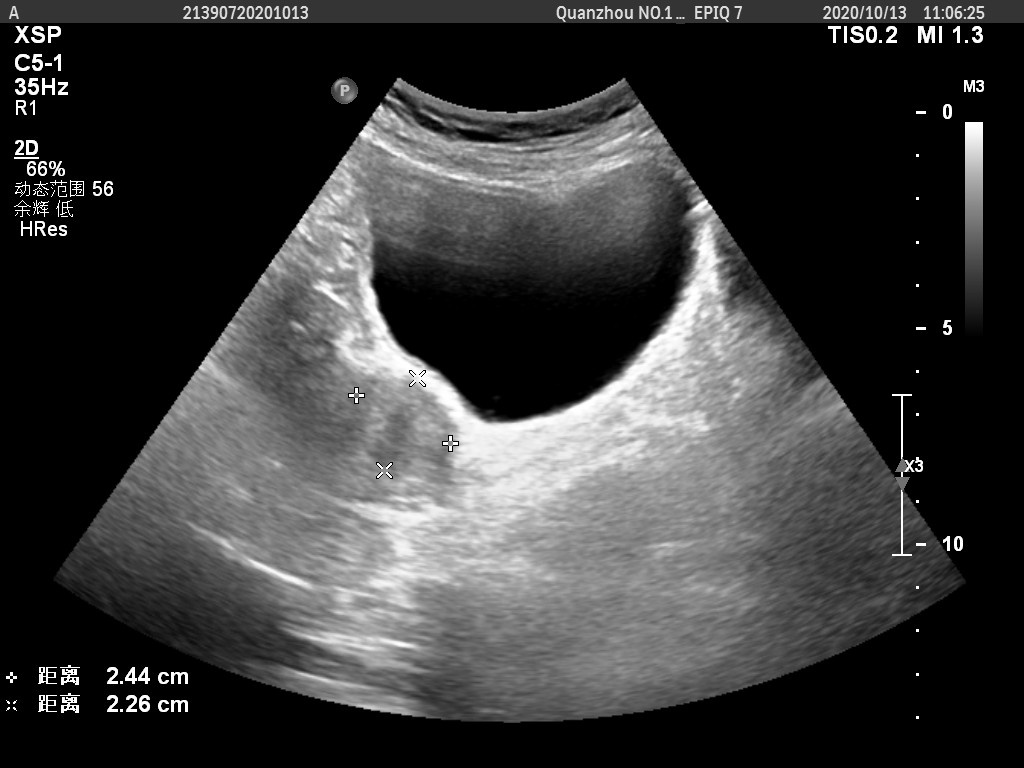肌瘤: (360, 379, 456, 469)
